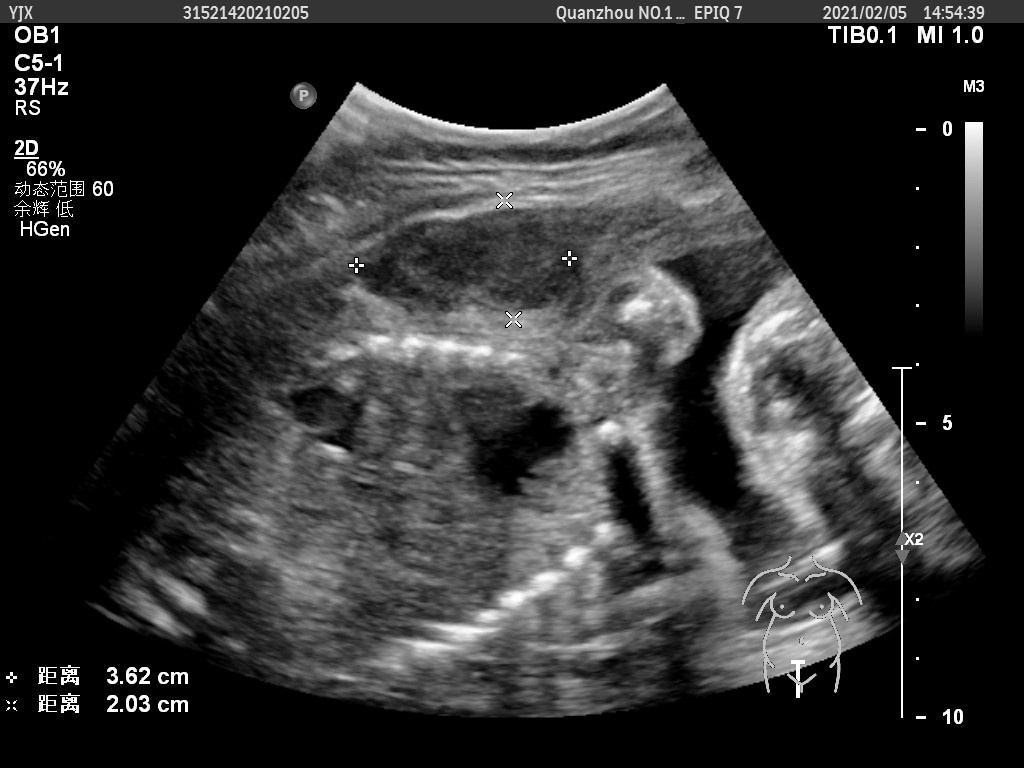肌瘤: (357, 200, 575, 322)
